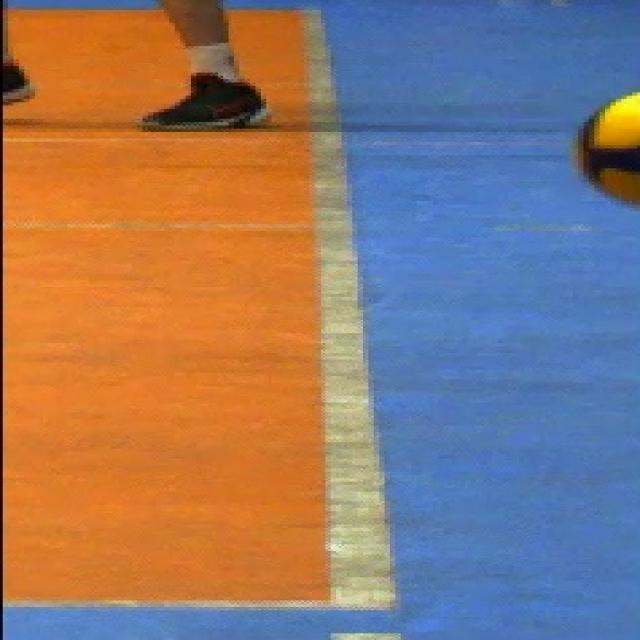Volleyball: (576, 88, 640, 208)
